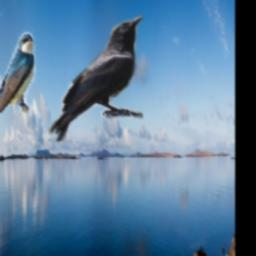Crow: (50, 15, 144, 142)
Swallow: (0, 30, 37, 128)
